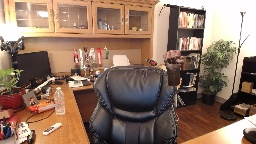Pugno: (161, 48, 184, 69)
